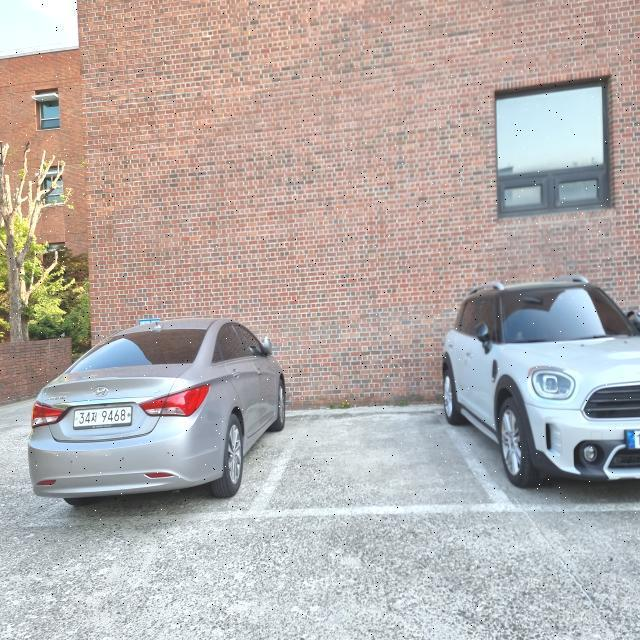Car: (29, 320, 291, 503), (444, 292, 640, 485)
Vacant: (280, 409, 449, 516)
